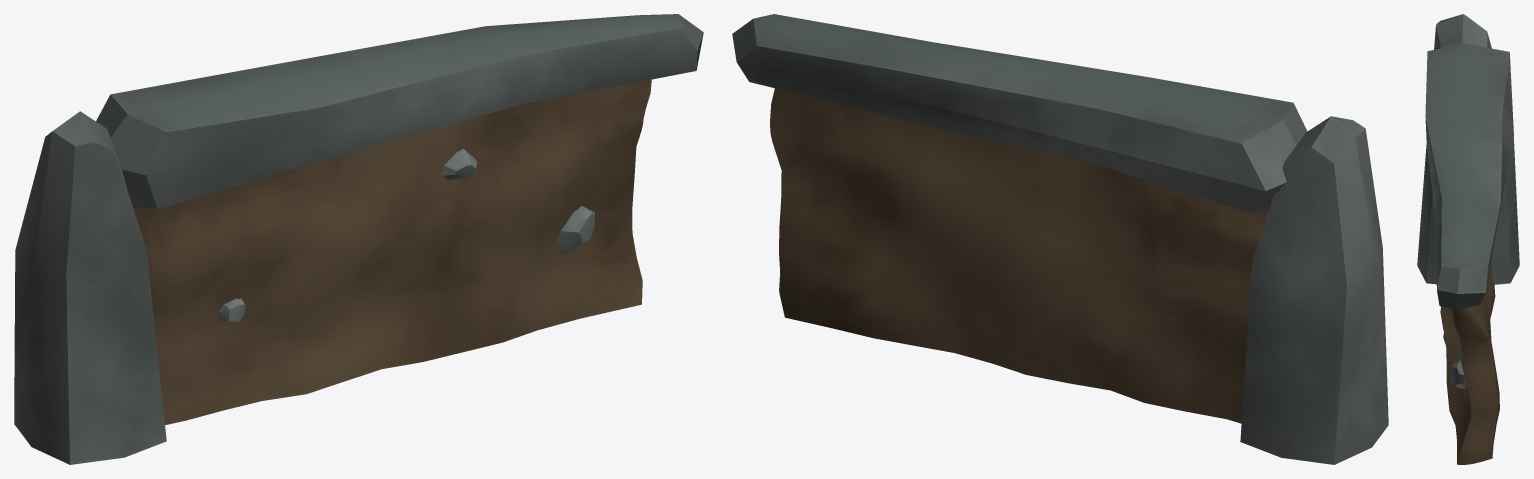
The model's file is Prehistory Wall_1.fbx.
3 views of the same model, side by side, from view 1: azimuth 30°, elevation 25°; view 2: azimuth 150°, elevation 25°; view 3: azimuth 270°, elevation 25° (orthographic). The views are drawn at different scales.
Parts seen in each view (by area): view 1: Prehistory Wall 3; view 2: Prehistory Wall 3; view 3: Prehistory Wall 3.
Boxes of the visible parts, bbox=[...] form: Prehistory Wall 3: bbox=[14, 14, 703, 464]; Prehistory Wall 3: bbox=[732, 14, 1388, 464]; Prehistory Wall 3: bbox=[1417, 14, 1519, 464].
Size of the model in its own units: 1551 by 727 by 274.
1 material, 1 textured.
